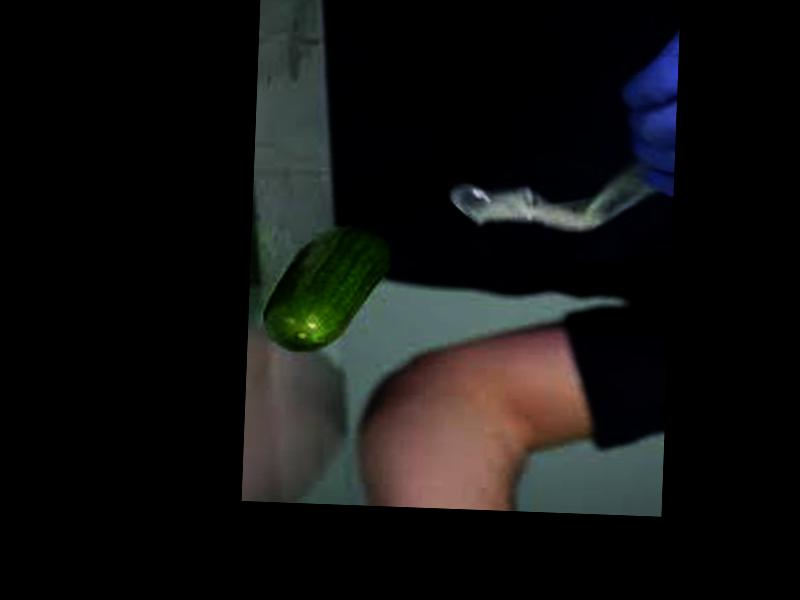Cucumber: (261, 223, 391, 355)
